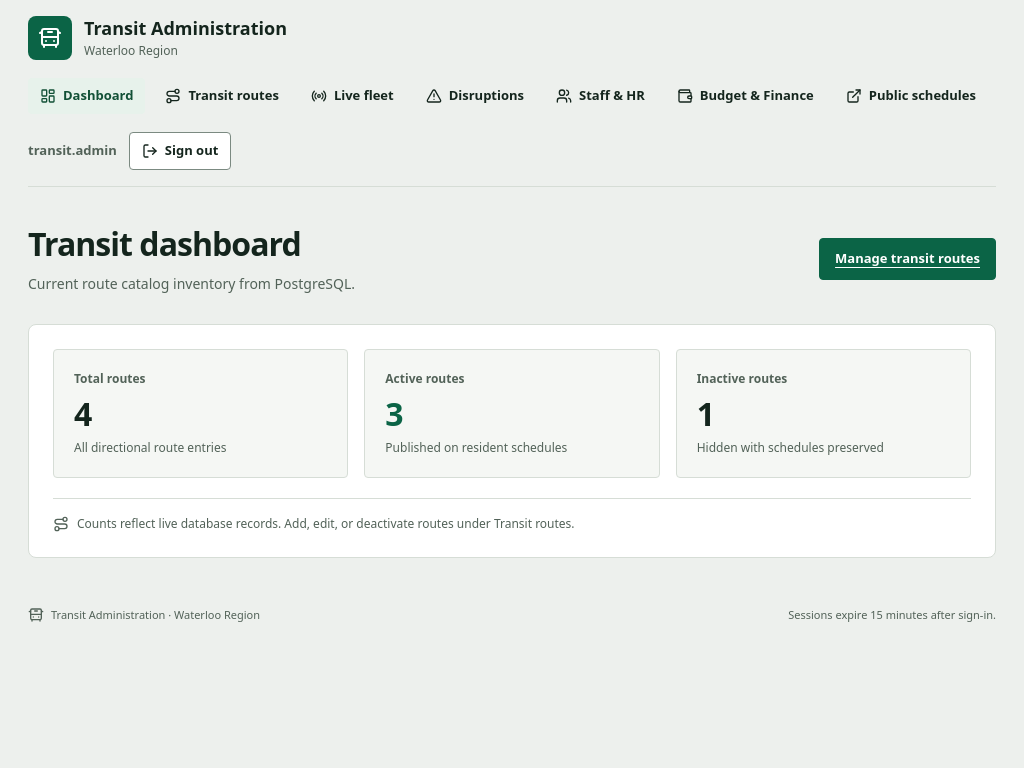
logs out with CSRF header, removes protected content, and returns to login
Expected: the heading "Transit dashboard" is shown, [28,222,301,264]
Step 1. Click the button "Sign out" → coordinates (180, 150), box [129,132,231,170]
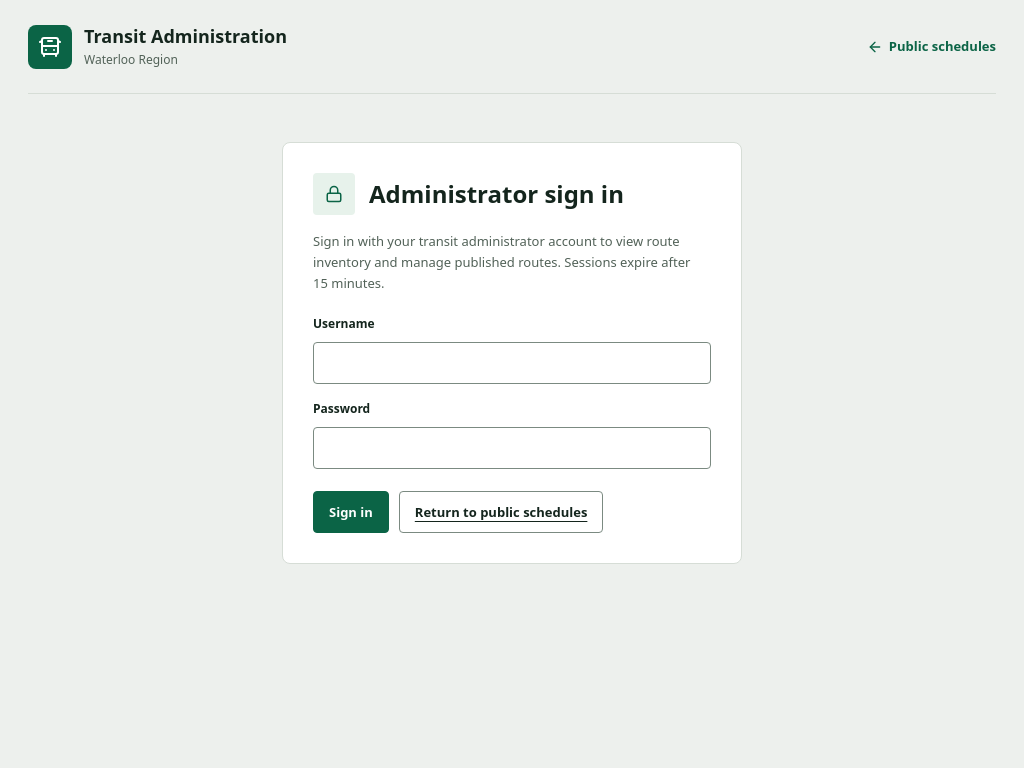
Expected: the heading "Administrator sign in" is shown, [369,179,624,209]
Expected: the heading "Transit dashboard" is gone
